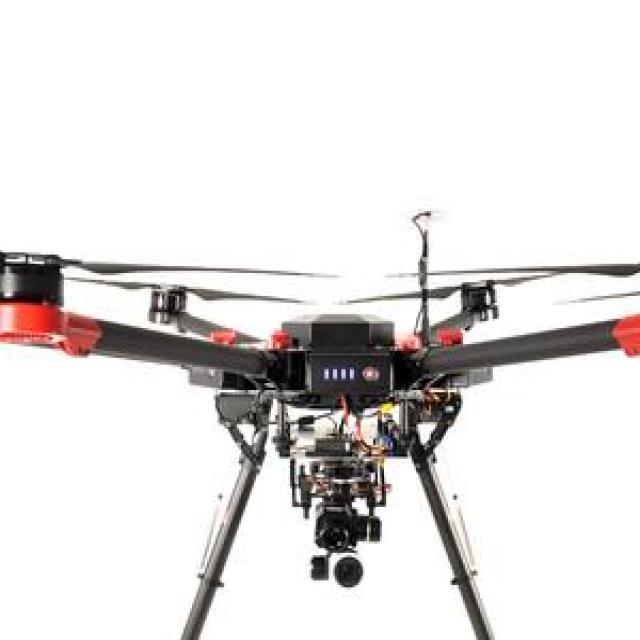drone: (0, 208, 640, 482)
